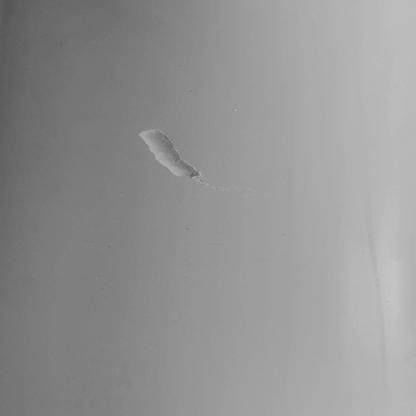sunshang: (134, 127, 200, 182)
